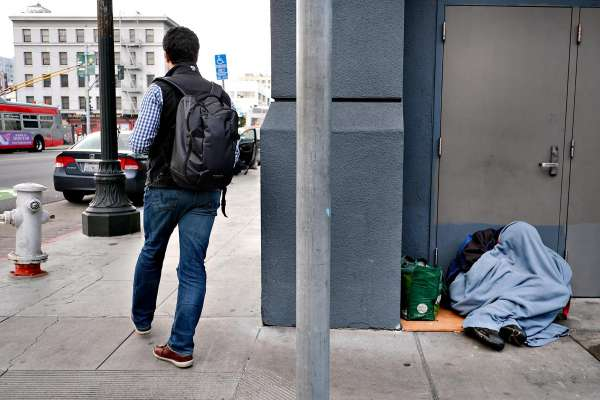Person: (129, 27, 239, 372)
